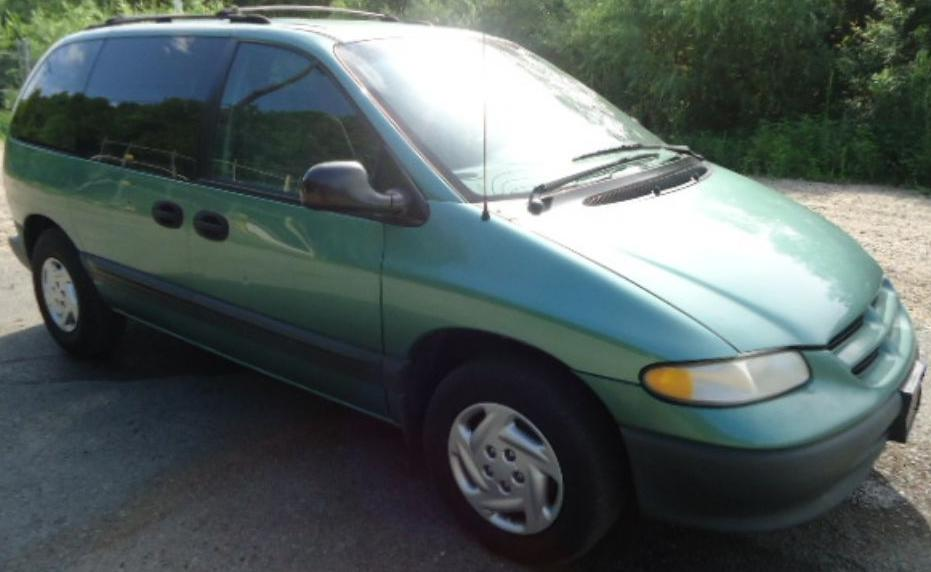front_view: (619, 238, 927, 526)
headlight: (628, 313, 836, 452)
side_glass: (29, 27, 430, 245)
